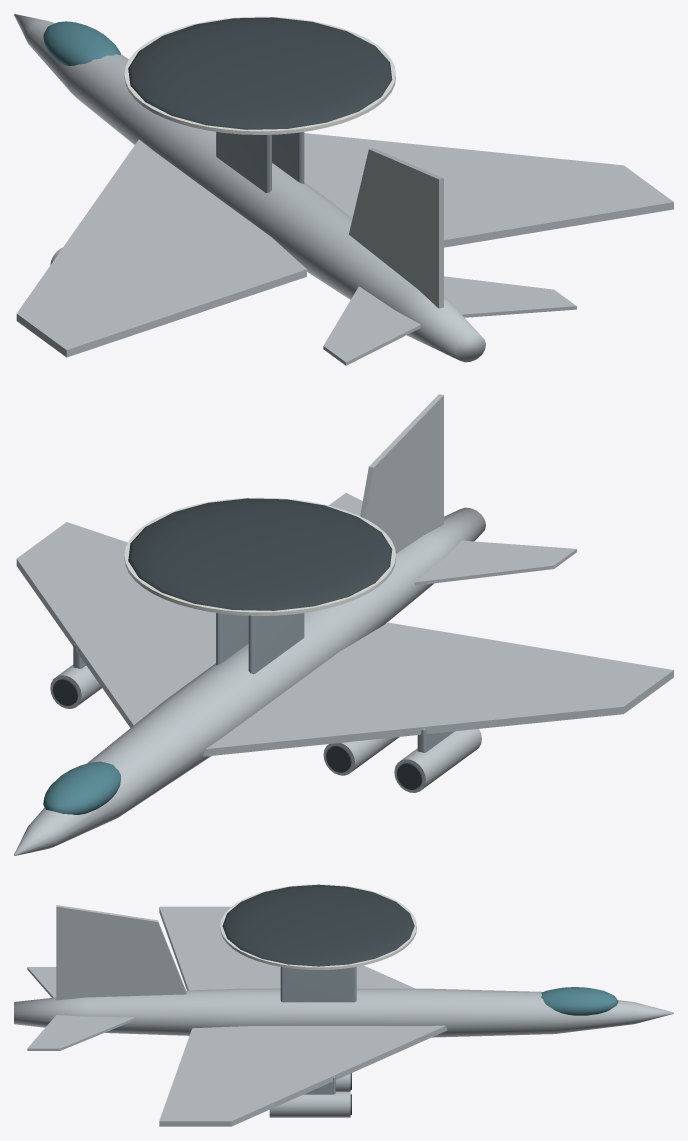
File: generic-awacs.glb
3 views of the same model, one above another, from view 1: azimuth 30°, elevation 25°; view 2: azimuth 150°, elevation 25°; view 3: azimuth 270°, elevation 25° (orthographic). The views are drawn at different scales.
Visible parts, largest first — view 1: awacs_SweptWing, awacs_Fuselage, awacs_RadarSpinner, awacs_SweptWing.001, awacs_VerticalTail, awacs_Tailplane, awacs_Tailplane.001, awacs_RadomeStripe, awacs_RadarPylon, awacs_Cockpit, awacs_RadarPylon.001; view 2: awacs_SweptWing, awacs_Fuselage, awacs_RadarSpinner, awacs_SweptWing.001, awacs_VerticalTail, awacs_Tailplane, awacs_Cockpit, awacs_RadomeStripe, awacs_RadarPylon, awacs_EngineNacelle.001, awacs_RadarPylon.001, awacs_EngineNacelle (+1 smaller); view 3: awacs_Fuselage, awacs_SweptWing.001, awacs_RadarSpinner, awacs_VerticalTail, awacs_SweptWing, awacs_RadarPylon.001, awacs_Tailplane.001, awacs_Cockpit, awacs_EngineNacelle.003, awacs_RadomeStripe, awacs_Tailplane.
Part boxes in pixels (box(x1,y1,x2,y2)): awacs_SweptWing: box(16, 139, 306, 357); awacs_Fuselage: box(14, 14, 485, 362); awacs_RadarSpinner: box(128, 17, 392, 129); awacs_SweptWing.001: box(304, 133, 673, 247); awacs_VerticalTail: box(349, 148, 443, 308); awacs_Tailplane: box(323, 286, 420, 365); awacs_Tailplane.001: box(444, 276, 576, 317); awacs_RadomeStripe: box(124, 16, 395, 134); awacs_RadarPylon: box(216, 132, 271, 193); awacs_Cockpit: box(43, 21, 120, 65); awacs_RadarPylon.001: box(272, 132, 304, 183); awacs_SweptWing: box(203, 622, 673, 756); awacs_Fuselage: box(14, 507, 485, 855); awacs_RadarSpinner: box(128, 498, 392, 610); awacs_SweptWing.001: box(16, 522, 215, 727); awacs_VerticalTail: box(360, 394, 443, 553); awacs_Tailplane: box(414, 540, 576, 585); awacs_Cockpit: box(43, 761, 120, 814); awacs_RadomeStripe: box(124, 497, 395, 615); awacs_RadarPylon: box(248, 613, 304, 674); awacs_EngineNacelle.001: box(394, 729, 481, 792); awacs_RadarPylon.001: box(216, 613, 248, 665); awacs_EngineNacelle: box(323, 737, 399, 775); awacs_Fuselage: box(14, 988, 673, 1037); awacs_SweptWing.001: box(159, 1025, 447, 1126); awacs_RadarSpinner: box(222, 884, 414, 966); awacs_VerticalTail: box(56, 905, 186, 1000); awacs_SweptWing: box(159, 906, 414, 990); awacs_RadarPylon.001: box(280, 967, 356, 1002); awacs_Tailplane.001: box(27, 1015, 135, 1050); awacs_Cockpit: box(541, 987, 618, 1015); awacs_EngineNacelle.003: box(269, 1091, 350, 1117); awacs_RadomeStripe: box(220, 884, 416, 969); awacs_Tailplane: box(27, 967, 56, 997).
Bounding box in the file's own units: 30 × 9.78 × 39.
